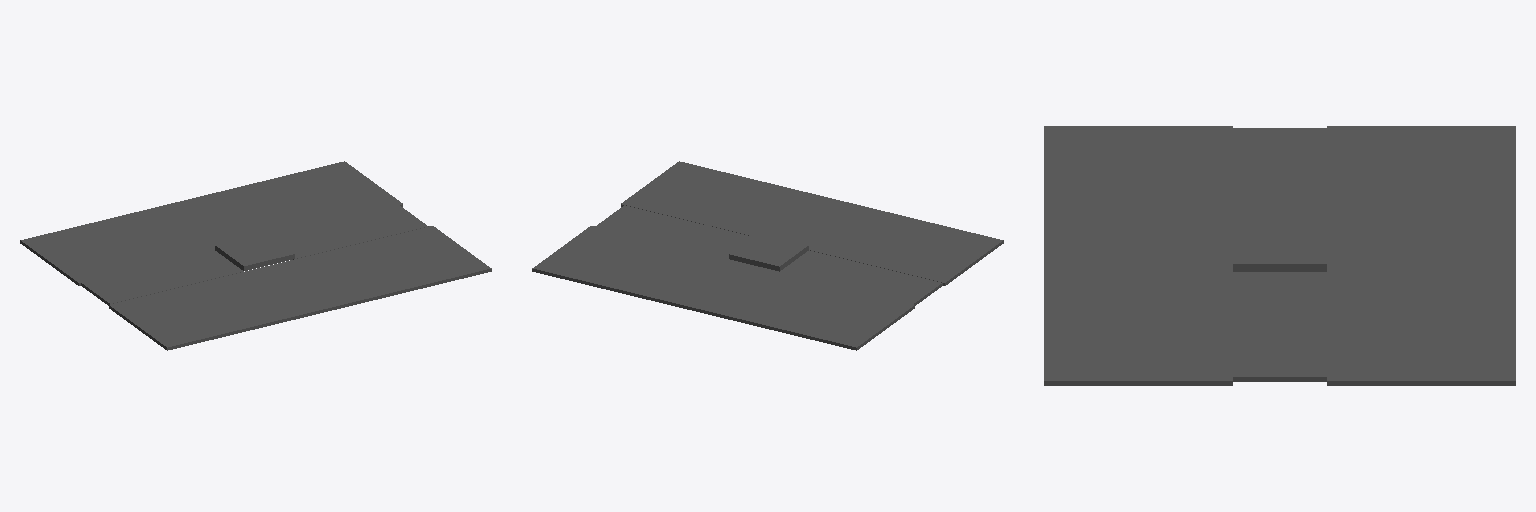
robot.urdf — lab_scene:
<?xml version="1.0" ?>
<robot name="lab_scene" xmlns:xacro="http://ros.org/wiki/xacro">
  <link name="base_link">
    <inertial>
      <mass value="200" />
      <inertia ixx="1.0" ixy="0.0" ixz="0.0" iyy="1.0" iyz="0.0" izz="1.0" />
    </inertial>
    <visual>
      <origin rpy="0 0 0" xyz="0 0 0"/>
      <geometry>
        <mesh filename="package://meshes/one_step.stl"/>
      </geometry>
      <material name="">
        <color rgba="0.4 0.4 0.4 1.0"/>
      </material>
    </visual>
    <collision concave="yes">
      <origin rpy="0 0 0" xyz="0 0 0"/>
      <geometry>
        <mesh filename="package://meshes/one_step.stl"/>
      </geometry>
    </collision>
  </link>
  <gazebo>
    <static>1</static>
  </gazebo>
</robot>

--- Facts derived from the render (not from the file) ---
3 views of the same robot in one strip: view 1: azimuth 30°, elevation 25°; view 2: azimuth 150°, elevation 25°; view 3: azimuth 270°, elevation 25° (orthographic).
Robot: lab_scene — 1 links, 0 joints (none); root link base_link; default pose: all joints at 0.
Links seen in each view (by area): view 1: base_link; view 2: base_link; view 3: base_link.
Link boxes in pixels (box(x1,y1,x2,y2)): base_link: box(20, 161, 491, 350); base_link: box(532, 161, 1003, 350); base_link: box(1044, 126, 1515, 385).
Size in the robot's own frame: 6.4 by 5.01 by 0.1551 metres.
1 mesh visuals loaded from 1 distinct referenced files (1 binary STL).